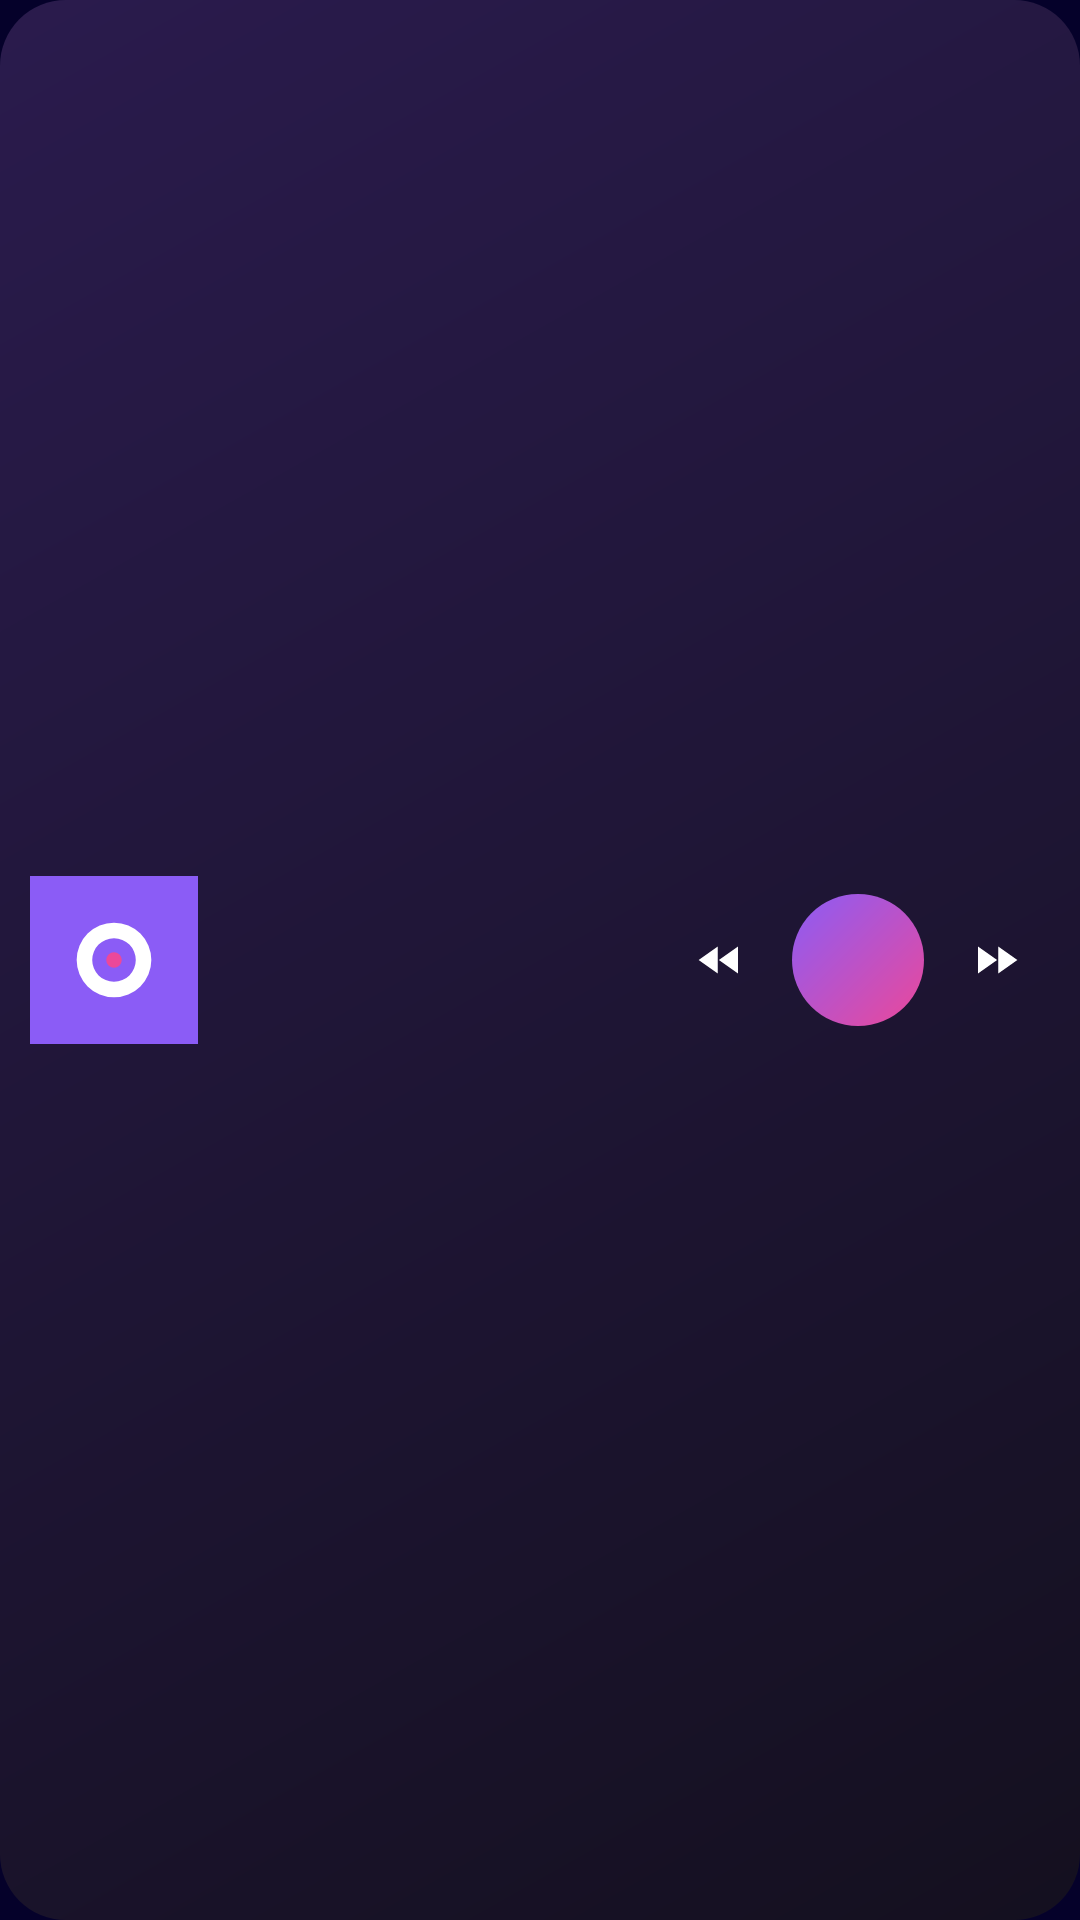

Named icons in this screenshot (1080 × 1920) and their bounding boxes, (left=x1, top=y1, right=x2, bottom=y2):
Back 15 seconds: (left=699, top=946, right=738, bottom=974)
Forward 30 seconds: (left=978, top=946, right=1017, bottom=974)
